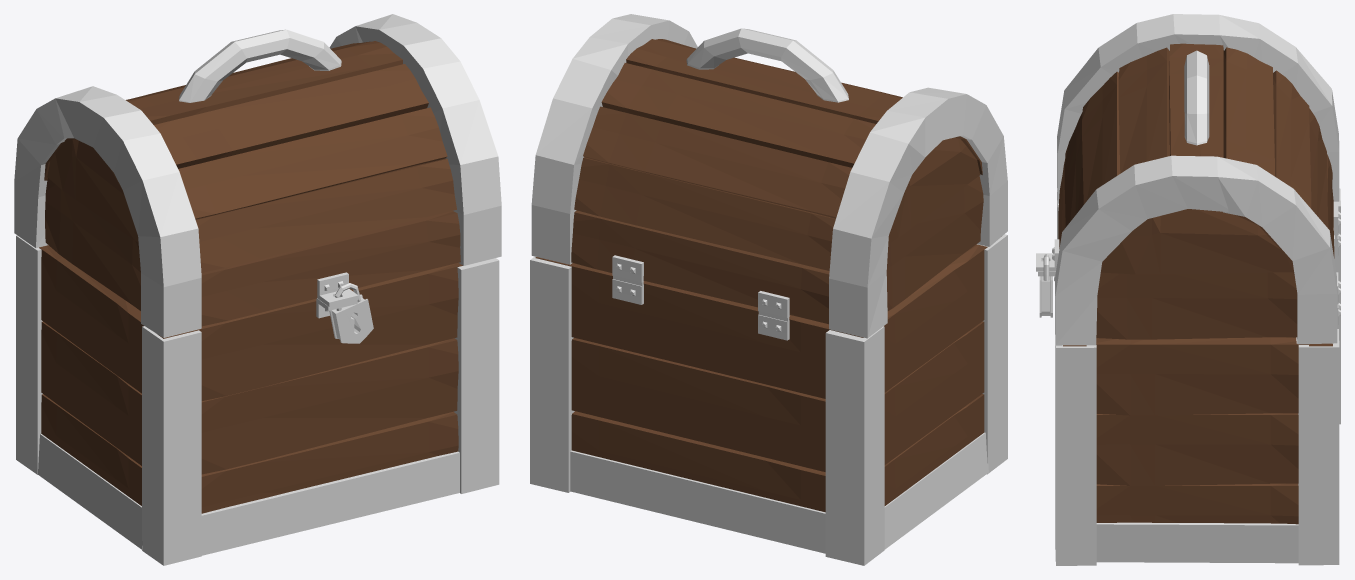
Rendered from Schatztrue.fbx.
3 renders of one model, left to right at view 1: azimuth 30°, elevation 25°; view 2: azimuth 150°, elevation 25°; view 3: azimuth 270°, elevation 25°, orthographic. The views are drawn at different scales.
Visible parts, largest first — view 1: Holzi_1_2, Holzi_2_3, Zylinder_8, Holzi_2, Holzi_1, Zylinder_4, Holzi, Holzi_3, Zylinder_10, Zylinder, Holzi_2_2, Zylinder_1 (+13 smaller); view 2: Holzi_10_2, Holzi_9_2, Holzi_6, Holzi_7, Zylinder_2, Zylinder_9, Holzi_5, Holzi_8, Zylinder_5, Zylinder_11, Holzi_11_2, Zylinder_3 (+15 smaller); view 3: Holzi_3_2, Holzi_4_2, Holzi_10, Zylinder_10, Zylinder_11, Zylinder_3, Zylinder_1, Holzi_9, Zylinder_7, Holzi_5_2, Zylinder_8, Holzi_8 (+13 smaller).
Part boxes in pixels (x1,y1,x2,y2): Holzi_1_2: [201, 338, 458, 474]; Holzi_2_3: [157, 263, 462, 400]; Zylinder_8: [74, 95, 201, 337]; Holzi_2: [178, 107, 447, 219]; Holzi_1: [195, 158, 456, 272]; Zylinder_4: [142, 326, 201, 565]; Holzi: [201, 211, 460, 326]; Holzi_3: [154, 64, 428, 168]; Zylinder_10: [377, 23, 501, 265]; Zylinder: [201, 451, 459, 555]; Holzi_2_2: [201, 411, 458, 513]; Zylinder_1: [454, 258, 499, 493]; Holzi_10_2: [571, 337, 825, 471]; Holzi_9_2: [535, 257, 863, 398]; Holzi_6: [574, 157, 835, 270]; Holzi_7: [583, 106, 851, 218]; Zylinder_2: [825, 326, 884, 565]; Zylinder_9: [829, 111, 925, 338]; Holzi_5: [571, 210, 829, 324]; Holzi_8: [601, 63, 875, 167]; Zylinder_5: [570, 450, 825, 553]; Zylinder_11: [531, 37, 627, 264]; Holzi_11_2: [571, 411, 825, 512]; Zylinder_3: [530, 256, 574, 492]; Holzi_3_2: [1096, 337, 1314, 415]; Holzi_4_2: [1096, 413, 1298, 485]; Holzi_10: [1096, 272, 1297, 339]; Zylinder_10: [1055, 155, 1228, 345]; Zylinder_11: [1217, 156, 1337, 344]; Zylinder_3: [1298, 329, 1339, 565]; Zylinder_1: [1055, 345, 1096, 565]; Holzi_9: [1100, 209, 1292, 274]; Zylinder_7: [1096, 522, 1298, 563]; Holzi_5_2: [1096, 483, 1298, 524]; Zylinder_8: [1057, 14, 1224, 203]; Holzi_8: [1224, 47, 1274, 226].
Bounding box in the file's own units: 215 × 264 × 171.
